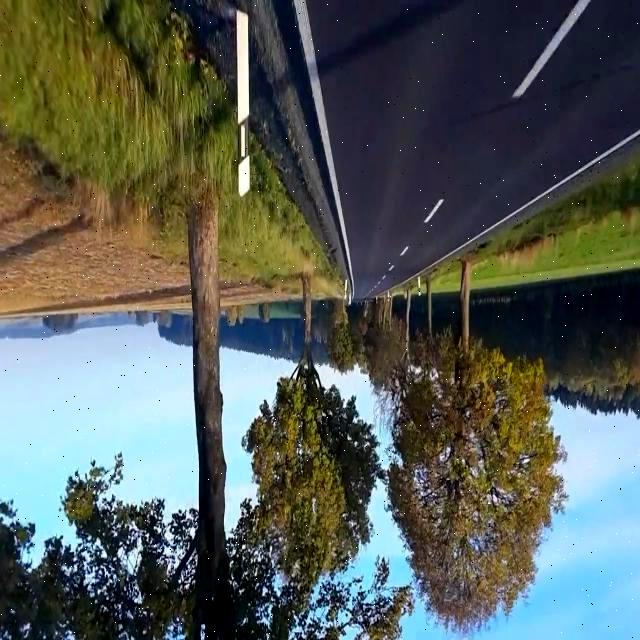lane: (424, 129, 640, 269), (294, 0, 353, 295), (513, 1, 591, 99), (424, 199, 444, 222)
road: (307, 1, 640, 298)
